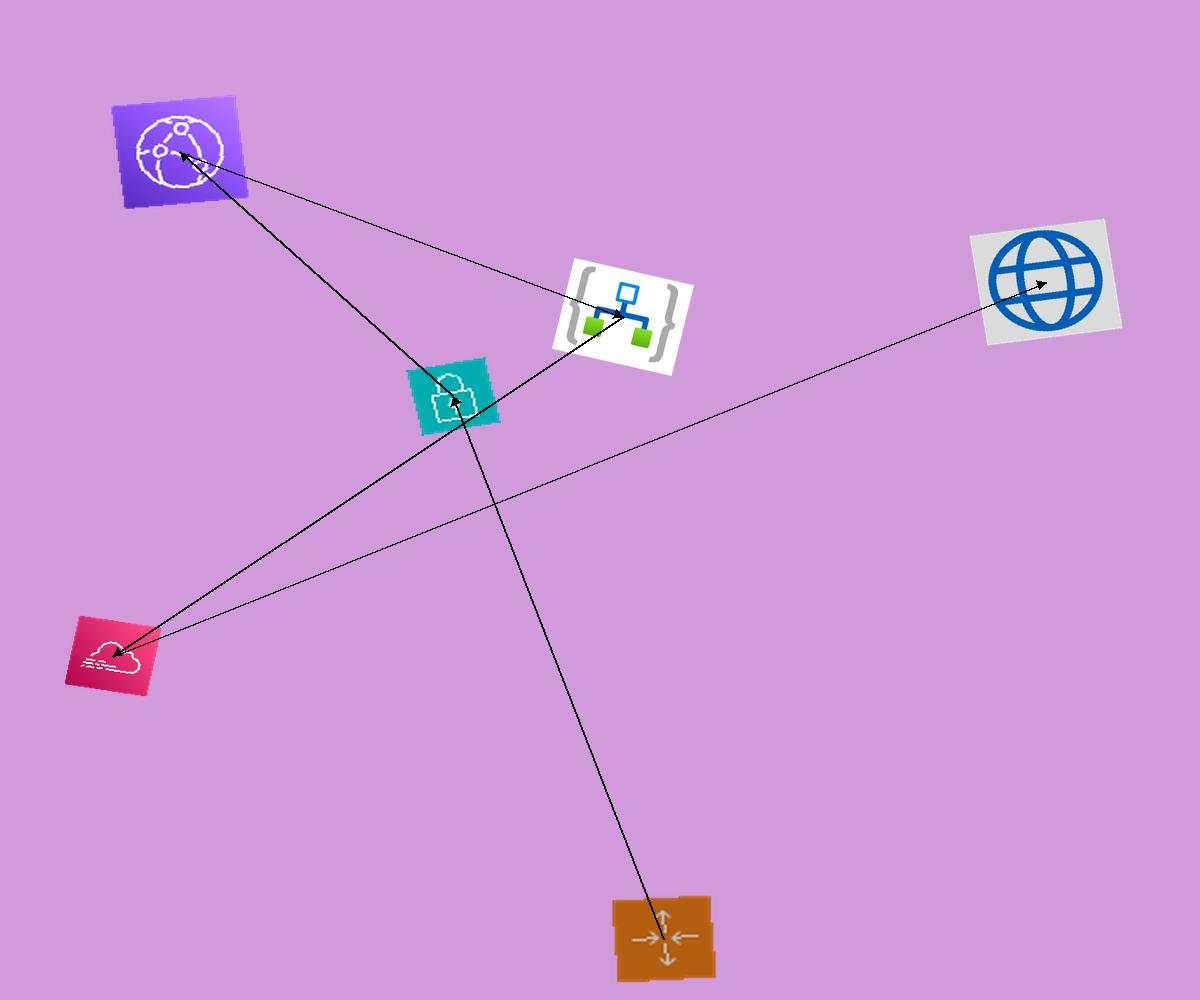AWS-CloudFront: (110, 94, 250, 210)
AWS-CloudTrail: (64, 615, 162, 697)
AWS-Private-subnet: (406, 357, 501, 436)
AWS-Scaling-group: (610, 894, 718, 984)
Azure_http: (969, 218, 1123, 346)
Azure_integration-204-Logic-Apps: (552, 258, 694, 376)
